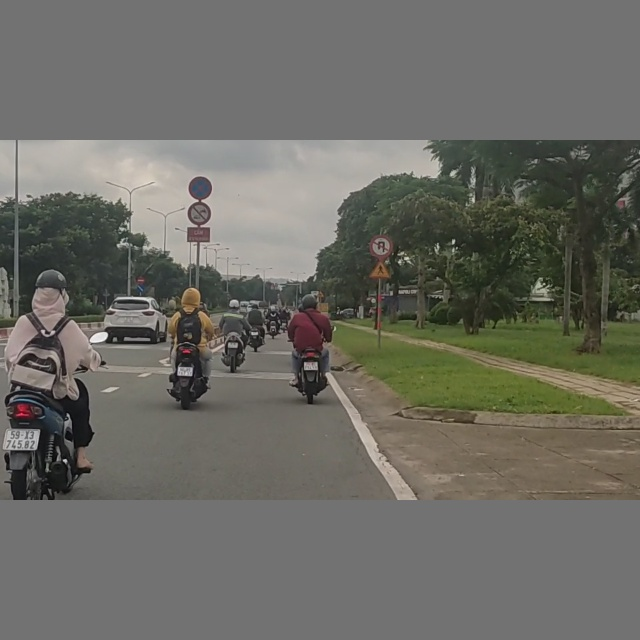P.102: (137, 276, 145, 283)
P.111: (188, 203, 211, 225)
P.124a*: (370, 233, 393, 257)
P.130: (189, 176, 212, 200)
R.302a: (137, 285, 145, 293)
W.224: (369, 261, 391, 279)
